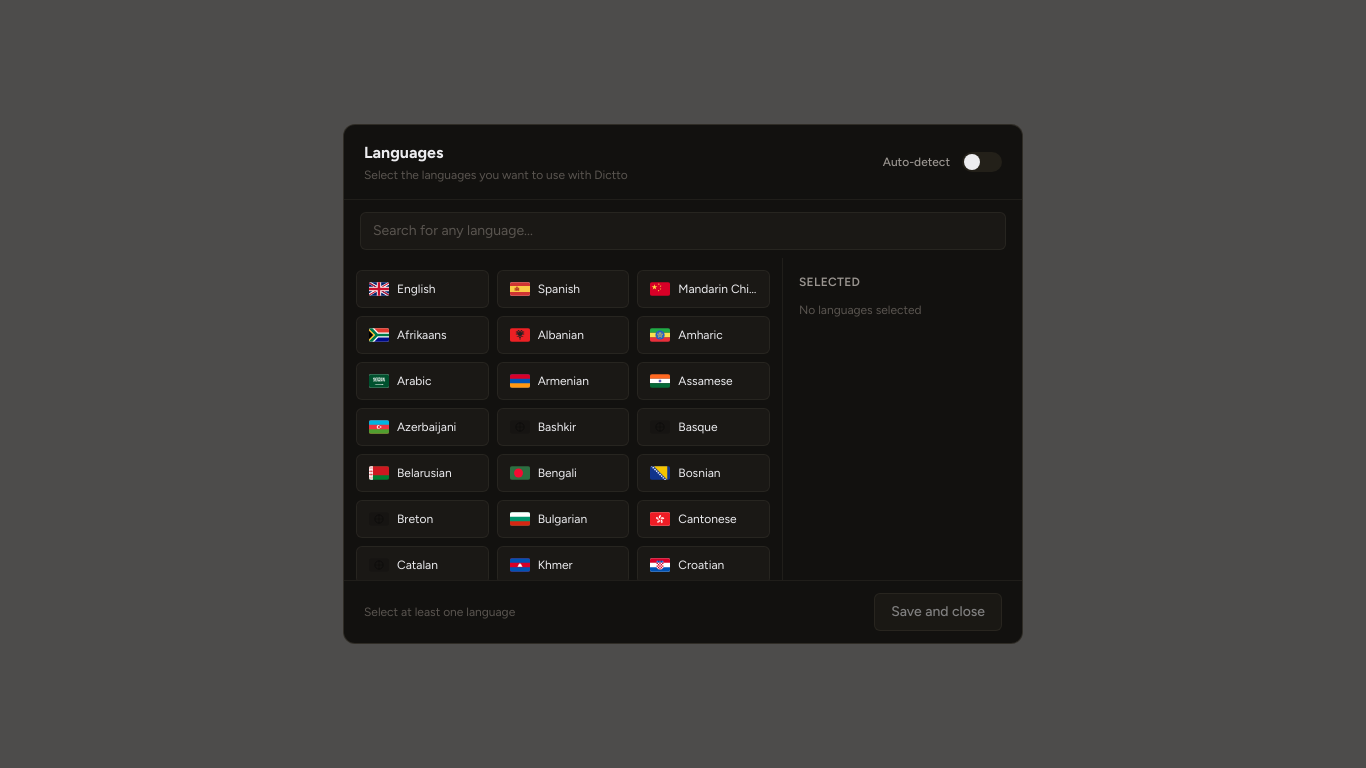
Scenario: MODAL-03: search filtering › filters language grid by search query in real time
Type "French" into the field with placeholder "Search for any language..." at (683, 231), box [360,212,1006,250]
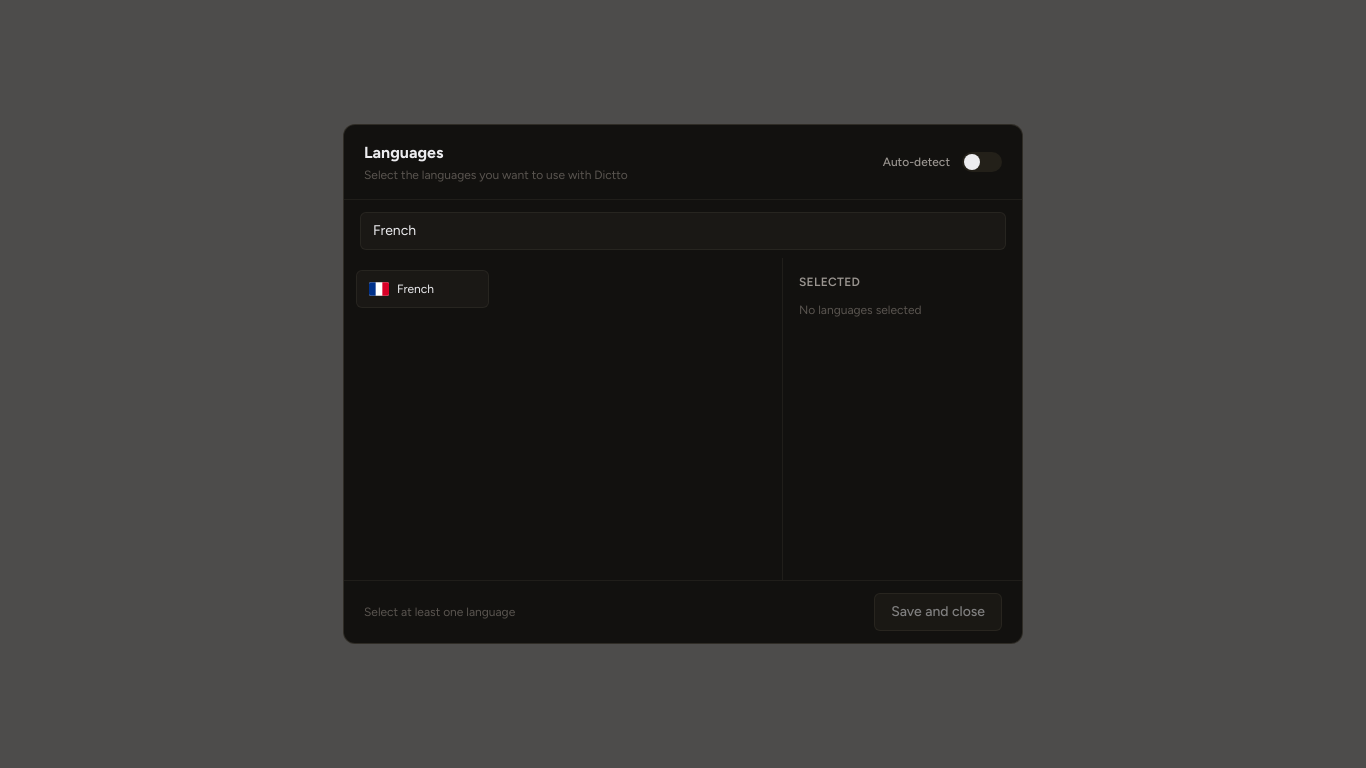
Expected: the text "French" is shown, [397,281,434,297]
Expected: the text "Afrikaans" is gone
